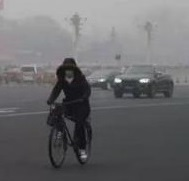person: (46, 54, 96, 170)
